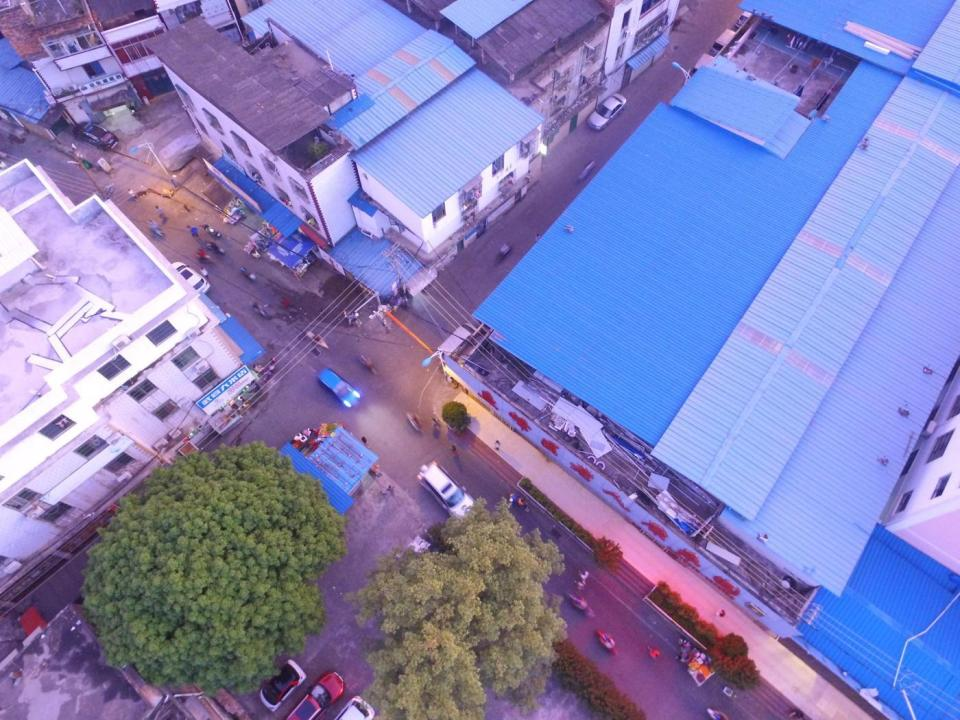car: (416, 460, 480, 523), (285, 669, 345, 719), (257, 660, 306, 711), (315, 366, 362, 409), (587, 93, 627, 130), (170, 261, 210, 294), (73, 120, 117, 149)
